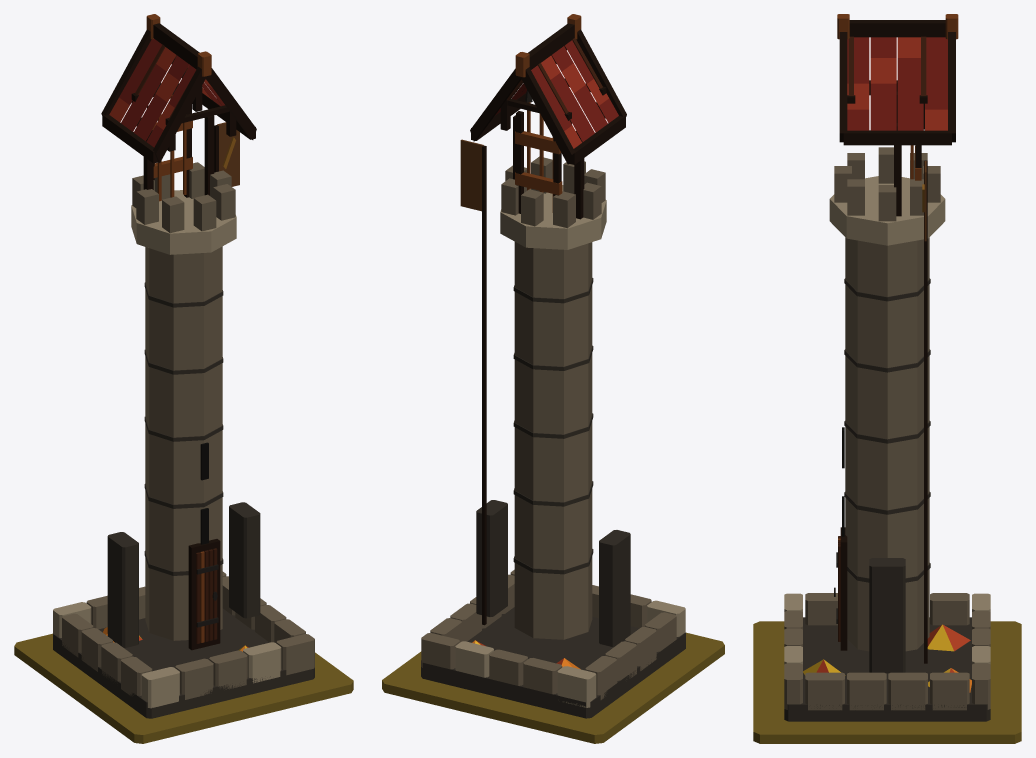
File: archer_tower_t6.glb
The picture shows the model from 3 angles, left to right: view 1: azimuth 30°, elevation 25°; view 2: azimuth 150°, elevation 25°; view 3: azimuth 270°, elevation 25°; orthographic projection. The views are drawn at different scales.
Visible parts, largest first — view 1: MMR | archer_tower | T06 Architecture.001, MMR | archer_tower | Tier 06 Ground.001, MMR | archer_tower | T06 Roof Supports.001, MMR | archer_tower | T06 Banner Flag 1.001; view 2: MMR | archer_tower | T06 Architecture.001, MMR | archer_tower | Tier 06 Ground.001, MMR | archer_tower | T06 Banner Flag 1.001, MMR | archer_tower | T06 Roof Supports.001; view 3: MMR | archer_tower | T06 Architecture.001, MMR | archer_tower | Tier 06 Ground.001, MMR | archer_tower | T06 Autumn Dressing.001, MMR | archer_tower | T06 Roof Supports.001.
Part boxes in pixels (x1,y1,x2,y2): MMR | archer_tower | T06 Architecture.001: (53,14,314,718); MMR | archer_tower | Tier 06 Ground.001: (14,633,353,743); MMR | archer_tower | T06 Roof Supports.001: (131,44,236,151); MMR | archer_tower | T06 Banner Flag 1.001: (217,122,239,186); MMR | archer_tower | T06 Architecture.001: (421,14,685,718); MMR | archer_tower | Tier 06 Ground.001: (382,632,724,743); MMR | archer_tower | T06 Banner Flag 1.001: (460,139,483,211); MMR | archer_tower | T06 Roof Supports.001: (500,38,606,130); MMR | archer_tower | T06 Architecture.001: (784,14,990,721); MMR | archer_tower | Tier 06 Ground.001: (753,621,1021,743); MMR | archer_tower | T06 Autumn Dressing.001: (803,624,971,692); MMR | archer_tower | T06 Roof Supports.001: (847,36,927,129).
Bounding box in the file's own units: 1.3 × 3.59 × 1.3.
Materials: 1 (1 with a texture image).
